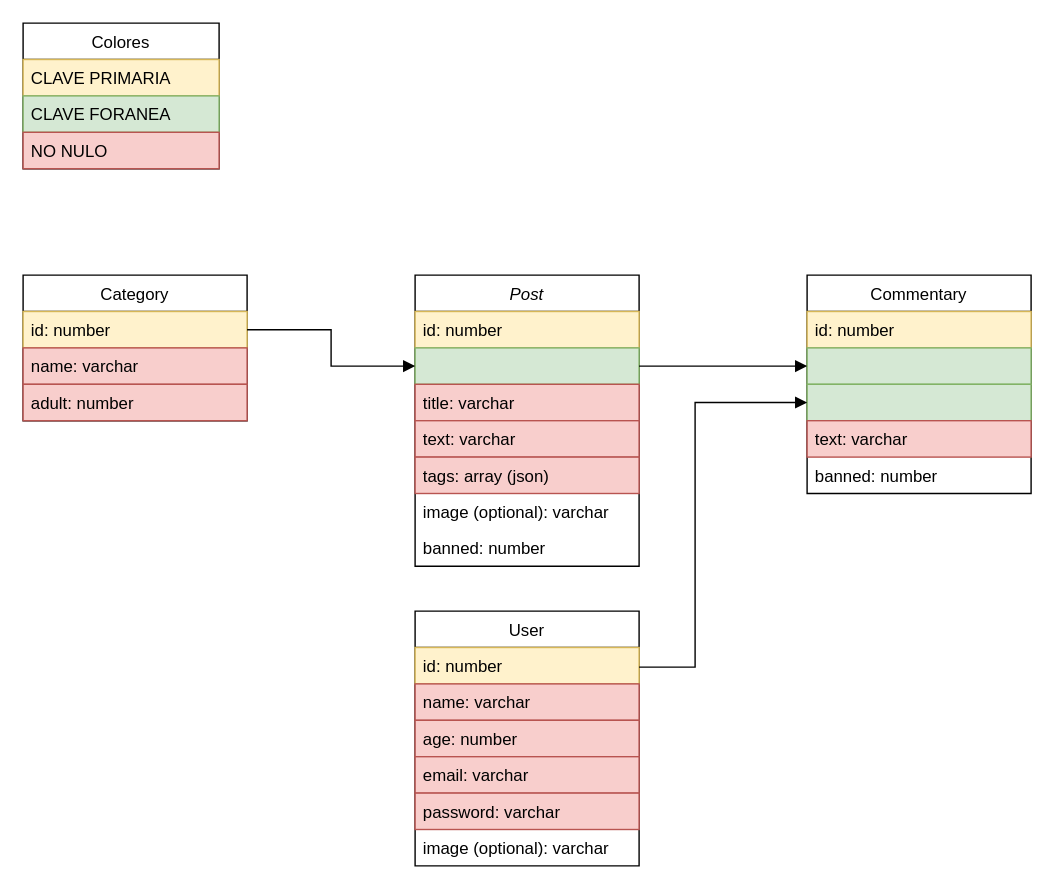
The diagram is 1054 pixels wide and 889 high, and some of its shapes have lost their labels. Here are the shapes that lost their labels. From the top down, the centre of each, then its label:
the point at 526,365: idCategory: number
the point at 918,365: idPost: number
the point at 918,402: idUser: number
